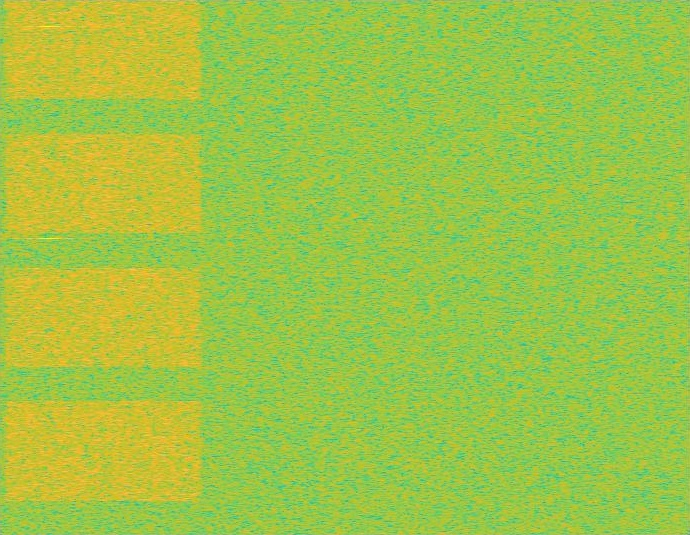5G: (0, 0, 207, 534)
Radar: (42, 0, 56, 534)
